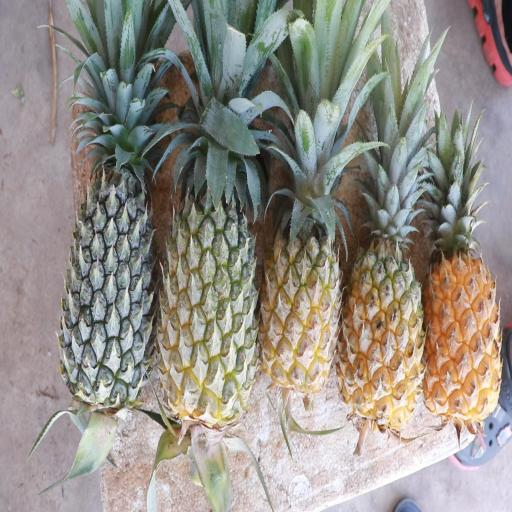------------------------------: (165, 134, 258, 422)
Pineapple - v8 v1: (345, 200, 424, 418), (422, 204, 502, 418), (267, 170, 339, 390)
